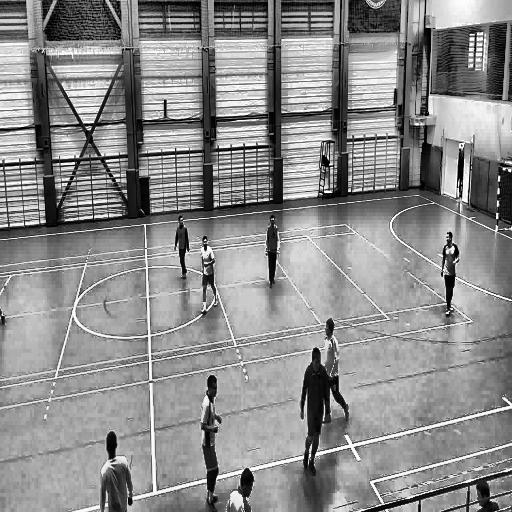player: (300, 347, 329, 477), (200, 372, 221, 511), (323, 319, 349, 427), (100, 428, 132, 512), (440, 228, 459, 319), (200, 234, 219, 316), (264, 214, 280, 292), (174, 212, 190, 280)
